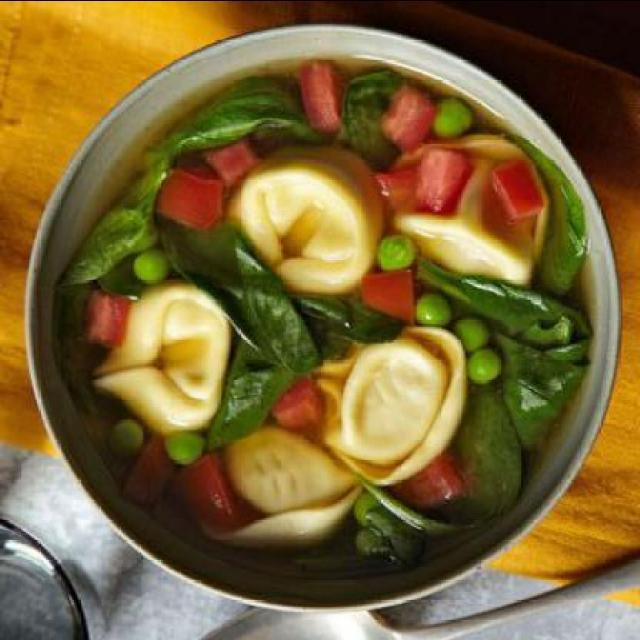Tortellini in broth: (72, 102, 546, 570)
